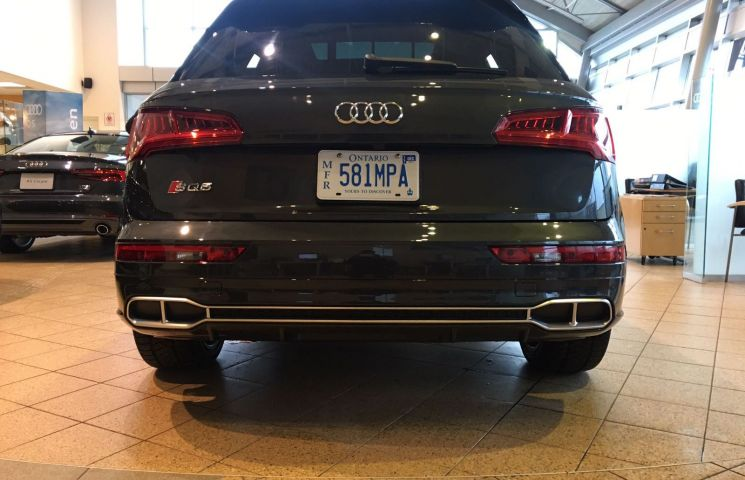audi: (325, 94, 413, 127)
